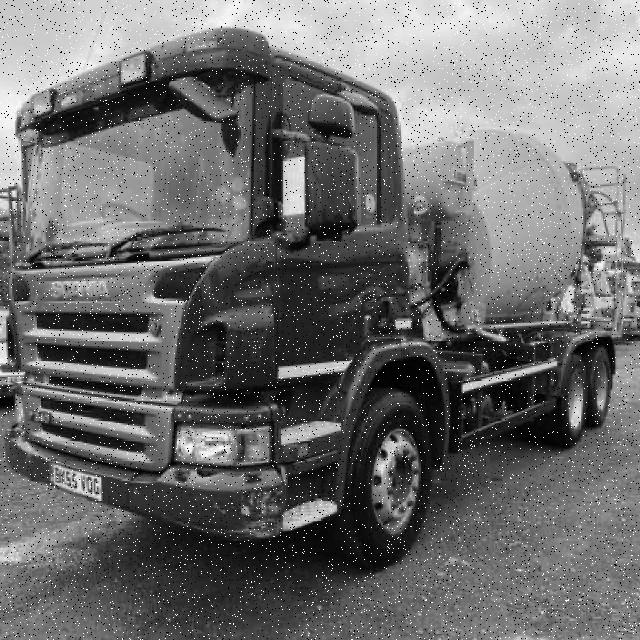Concrete Mixer: (3, 28, 630, 575)
